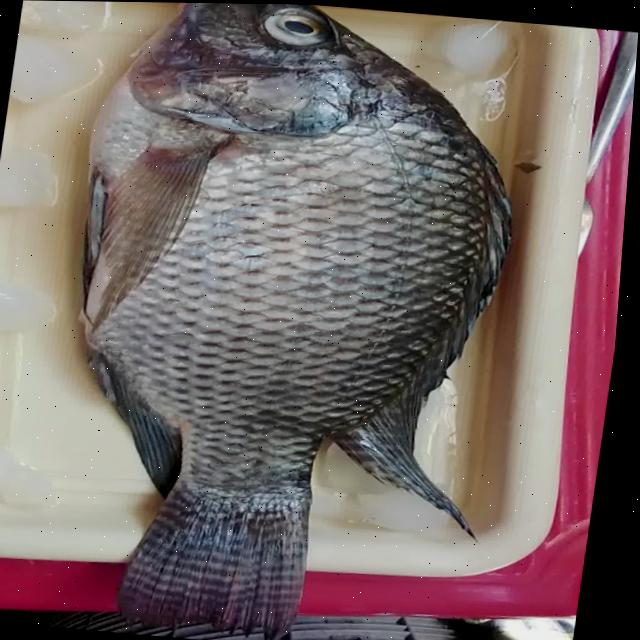Fresh: (74, 49, 543, 383), (246, 3, 344, 55)
